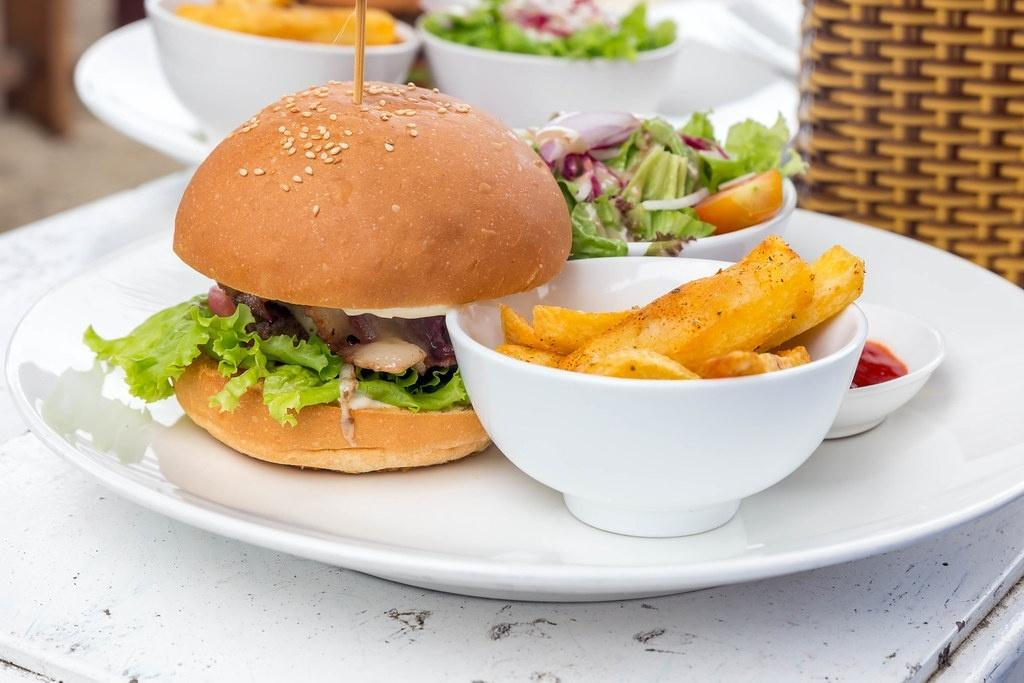Burger: (225, 66, 551, 462)
